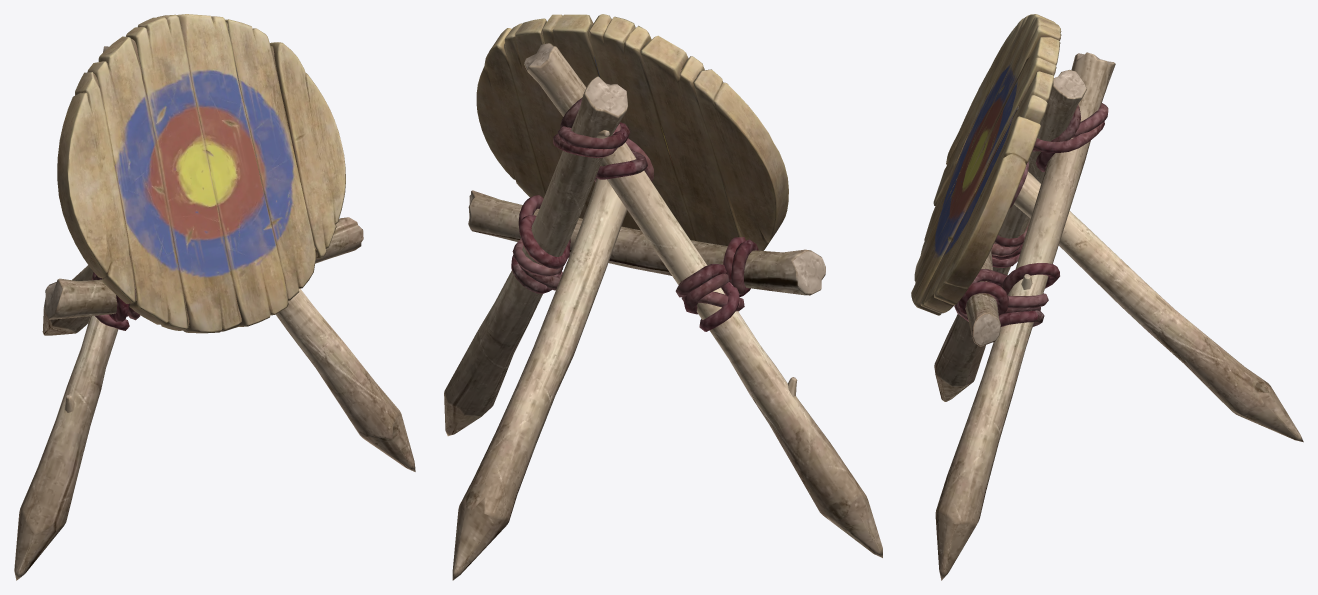
3 renders of one model, left to right at view 1: azimuth 30°, elevation 25°; view 2: azimuth 150°, elevation 25°; view 3: azimuth 270°, elevation 25°, orthographic. The views are drawn at different scales.
Parts seen in each view (by area): view 1: SM_Archery_Target_01_LOD0; view 2: SM_Archery_Target_01_LOD0; view 3: SM_Archery_Target_01_LOD0.
Part boxes in pixels (x1=…): SM_Archery_Target_01_LOD0: x1=14, y1=14, x2=415, y2=580; SM_Archery_Target_01_LOD0: x1=444, y1=14, x2=882, y2=580; SM_Archery_Target_01_LOD0: x1=911, y1=14, x2=1303, y2=580.
Bounding box in the file's own units: 1.59 × 1.84 × 1.38.
2 materials, 2 textured.
